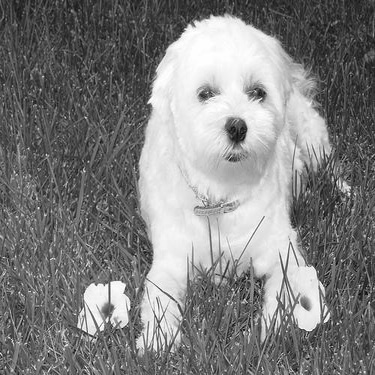dog: (118, 11, 345, 364)
